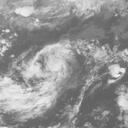cyclone: (23, 40, 80, 101)
